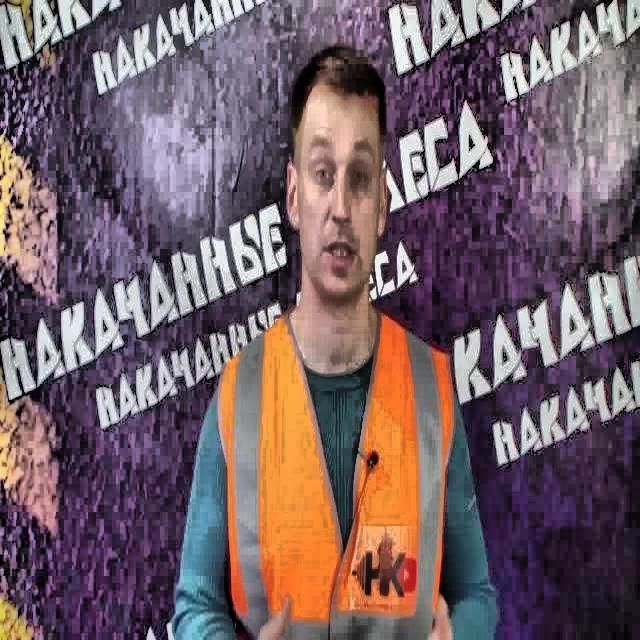safety_jacket: (214, 310, 458, 638)
